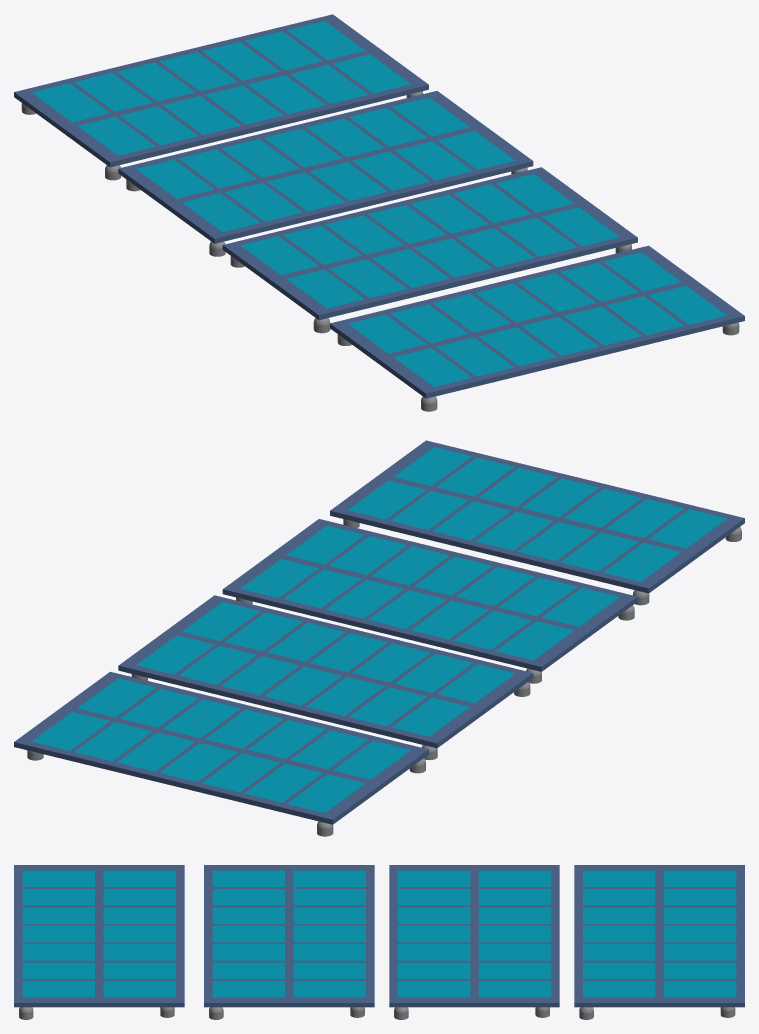
File: solar_panels.glb
The picture shows the model from 3 angles, top to bottom: view 1: azimuth 30°, elevation 25°; view 2: azimuth 150°, elevation 25°; view 3: azimuth 270°, elevation 25°; orthographic projection. The views are drawn at different scales.
Parts seen in each view (by area): view 1: Mesh_Mesh_head_geo.001_lambert2SG.001; view 2: Mesh_Mesh_head_geo.001_lambert2SG.001; view 3: Mesh_Mesh_head_geo.001_lambert2SG.001.
Part boxes in pixels (x1,y1,x2,y2): Mesh_Mesh_head_geo.001_lambert2SG.001: [14, 14, 744, 411]; Mesh_Mesh_head_geo.001_lambert2SG.001: [14, 440, 744, 836]; Mesh_Mesh_head_geo.001_lambert2SG.001: [14, 865, 744, 1019].
Size of the model in its own units: 0.67 by 0.04 by 1.5.
